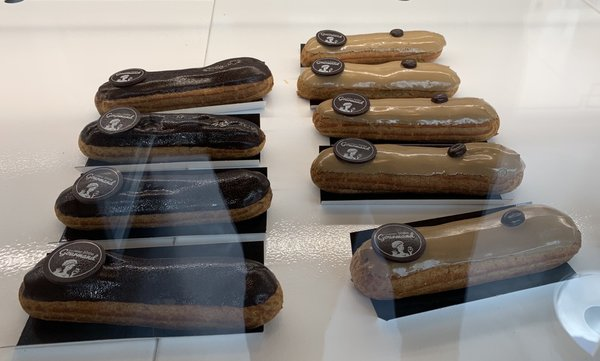burger: (92, 58, 275, 113)
